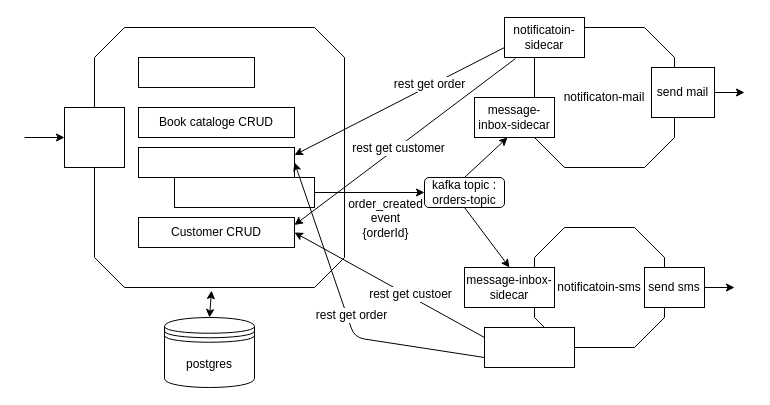
Some shapes in this 770 by 405 pixel diagram are drawn without their labels. Here are the shapes that lost their labels. From the top down, the centre of each, then its label:
point (196, 72): Authorization
point (94, 137): Rest API
point (216, 162): Commerce order CRUD
point (244, 192): message-outbox-sidecar
point (529, 347): notification-sidecar
